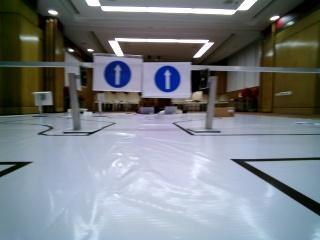straight: (96, 53, 141, 92), (146, 62, 189, 97)
